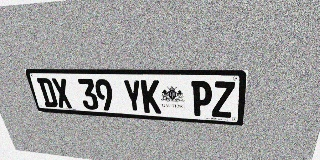3: (77, 79, 99, 110)
9: (94, 79, 115, 111)
D: (36, 78, 59, 108)
K: (140, 80, 161, 114)
P: (191, 81, 212, 117)
X: (51, 78, 73, 108)
Y: (122, 79, 143, 113)
Z: (212, 81, 235, 118)
